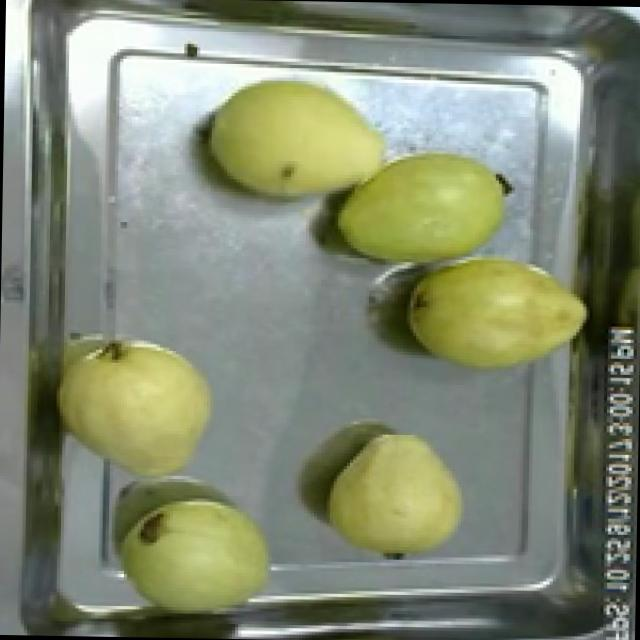Fruit: (196, 61, 402, 216), (45, 318, 230, 488), (396, 238, 593, 382), (107, 479, 286, 636), (328, 135, 518, 279), (313, 422, 475, 570)
